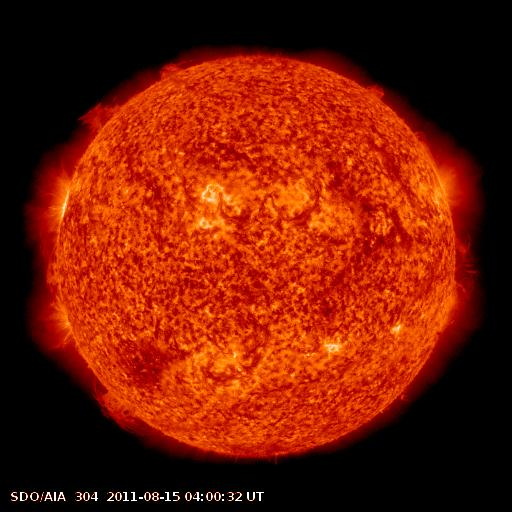prominence: (81, 375, 150, 437), (445, 218, 482, 307), (32, 229, 73, 304), (75, 94, 131, 140), (142, 51, 192, 86), (354, 77, 392, 108)
